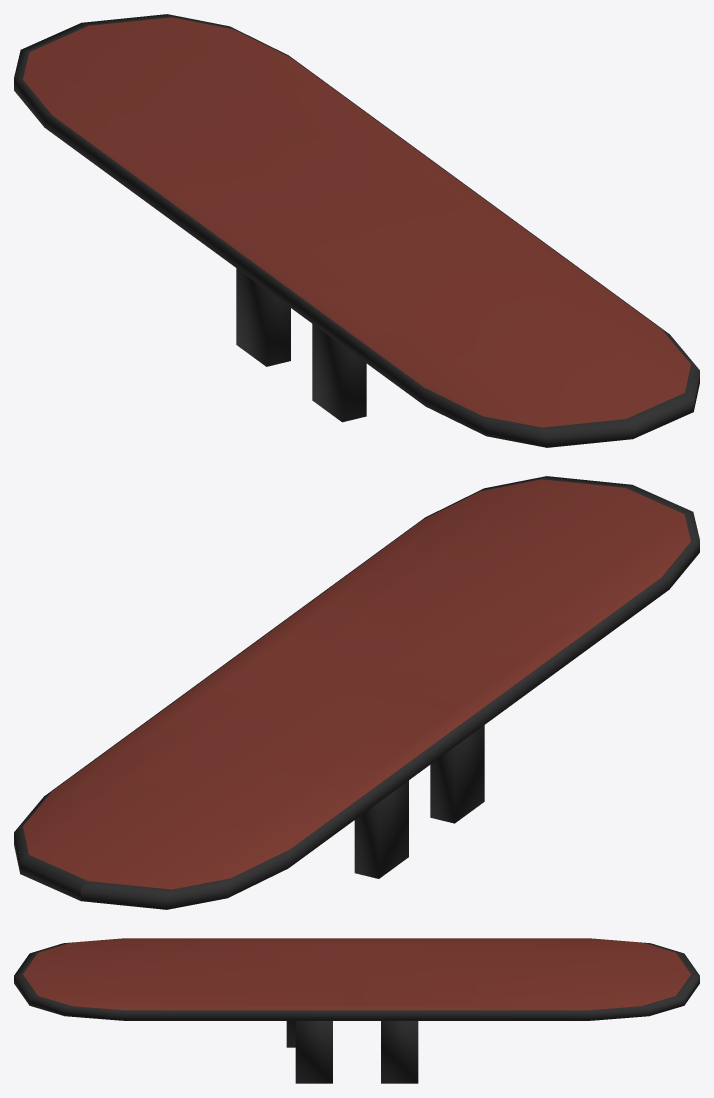
The model's file is GAMEJAMHERO - Prop(Long Office Table).fbx.
3 views of the same model, one above another, from view 1: azimuth 30°, elevation 25°; view 2: azimuth 150°, elevation 25°; view 3: azimuth 270°, elevation 25° (orthographic). The views are drawn at different scales.
Visible parts, largest first — view 1: Plane.008; view 2: Plane.008; view 3: Plane.008.
Boxes of the visible parts, bbox=[...] form: Plane.008: bbox=[14, 14, 699, 447]; Plane.008: bbox=[14, 476, 699, 909]; Plane.008: bbox=[14, 938, 699, 1083].
Size of the model in its own units: 157 by 86.92 by 616.
1 material, 1 textured.
